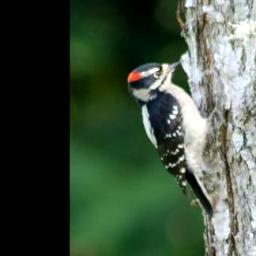Woodpecker: (125, 56, 222, 221)
